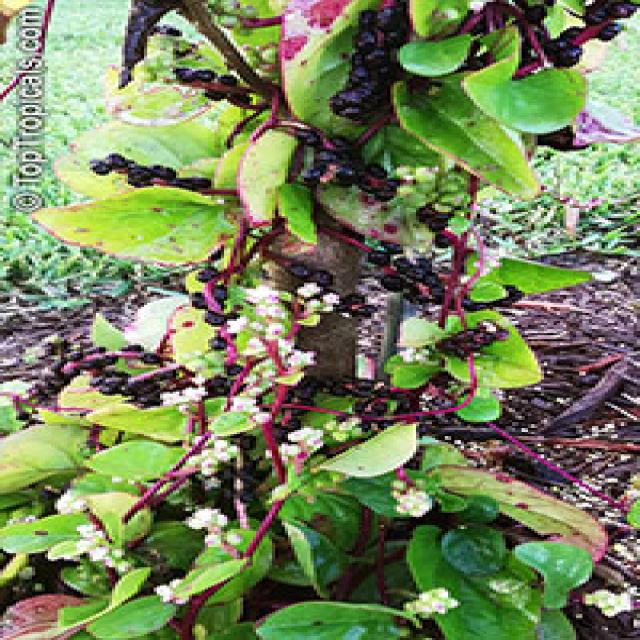Medicinal-Basale: (150, 0, 563, 395), (28, 414, 575, 640)
